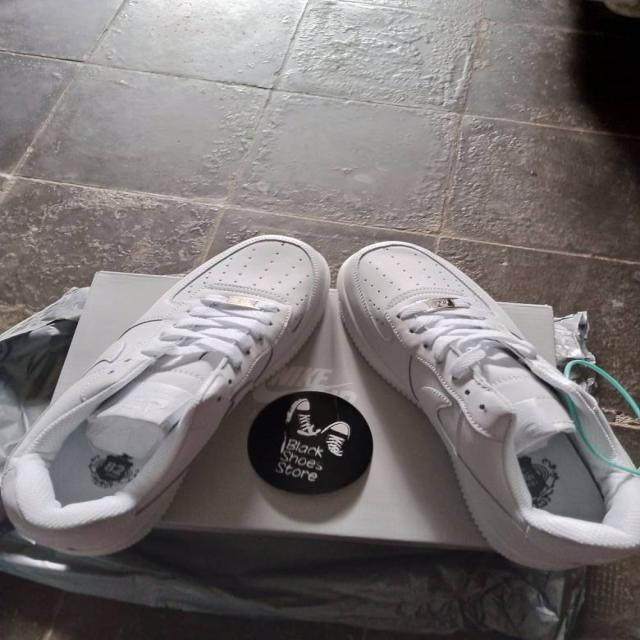nike fake air force: (8, 232, 334, 560), (336, 240, 640, 568)
